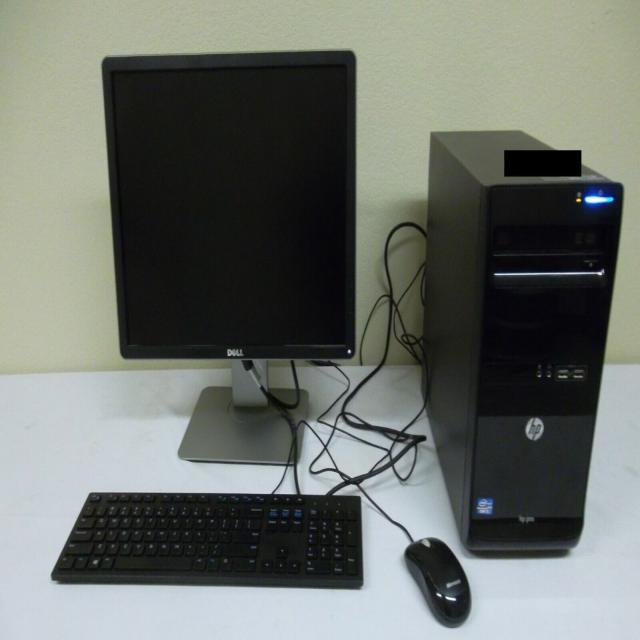Computer-Keyboard: (34, 472, 378, 610)
Computer-Mouse: (404, 526, 481, 640)
Desktop-PC: (427, 114, 617, 572)
Flat-Panel-Monitor: (88, 32, 364, 468)
